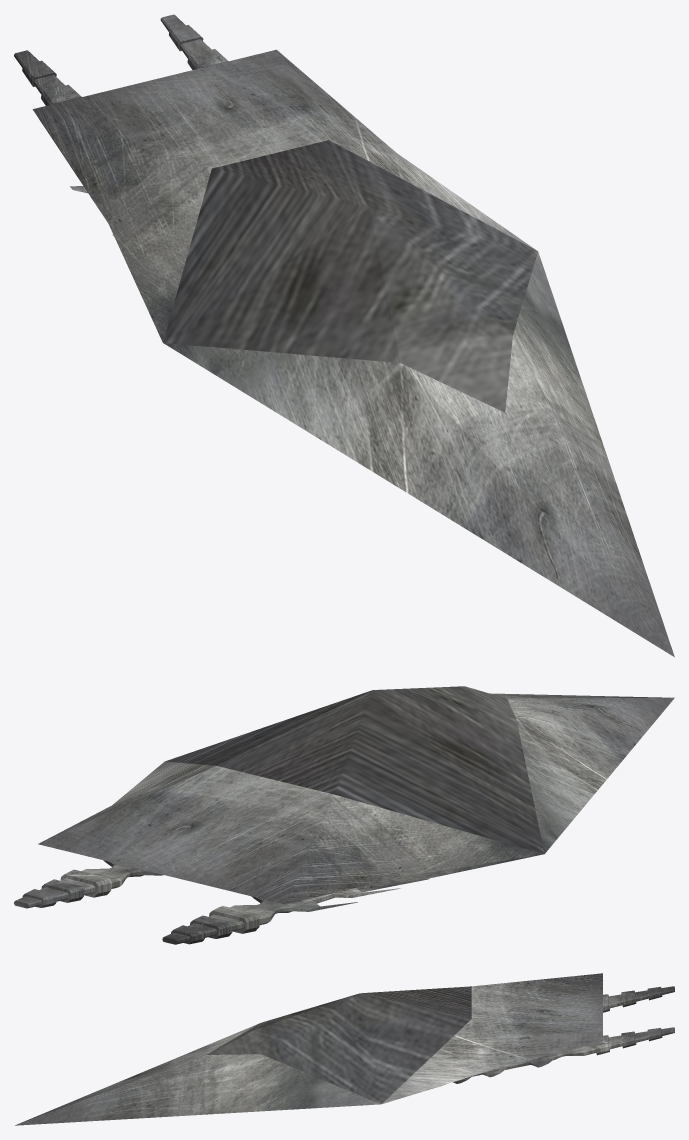
Rendered from wing_weak_close.fbx.
3 views of the same model, one above another, from view 1: azimuth 30°, elevation 25°; view 2: azimuth 150°, elevation 25°; view 3: azimuth 270°, elevation 25° (orthographic). The views are drawn at different scales.
Visible parts, largest first — view 1: polySurface3283, polySurface3233, polySurface3302; view 2: polySurface3283, polySurface3233, polySurface3302; view 3: polySurface3283, polySurface3233, polySurface3302.
Part boxes in pixels (x1,y1,x2,y2): polySurface3283: (32,49,674,657); polySurface3233: (163,140,537,412); polySurface3302: (14,14,228,237); polySurface3283: (38,693,674,904); polySurface3233: (165,686,544,853); polySurface3302: (14,860,429,944); polySurface3283: (15,973,602,1125); polySurface3233: (207,986,471,1104); polySurface3302: (453,986,674,1083).
Bounding box in the file's own units: 3.92 × 2.29 × 10.43.
2 materials, 1 textured.
